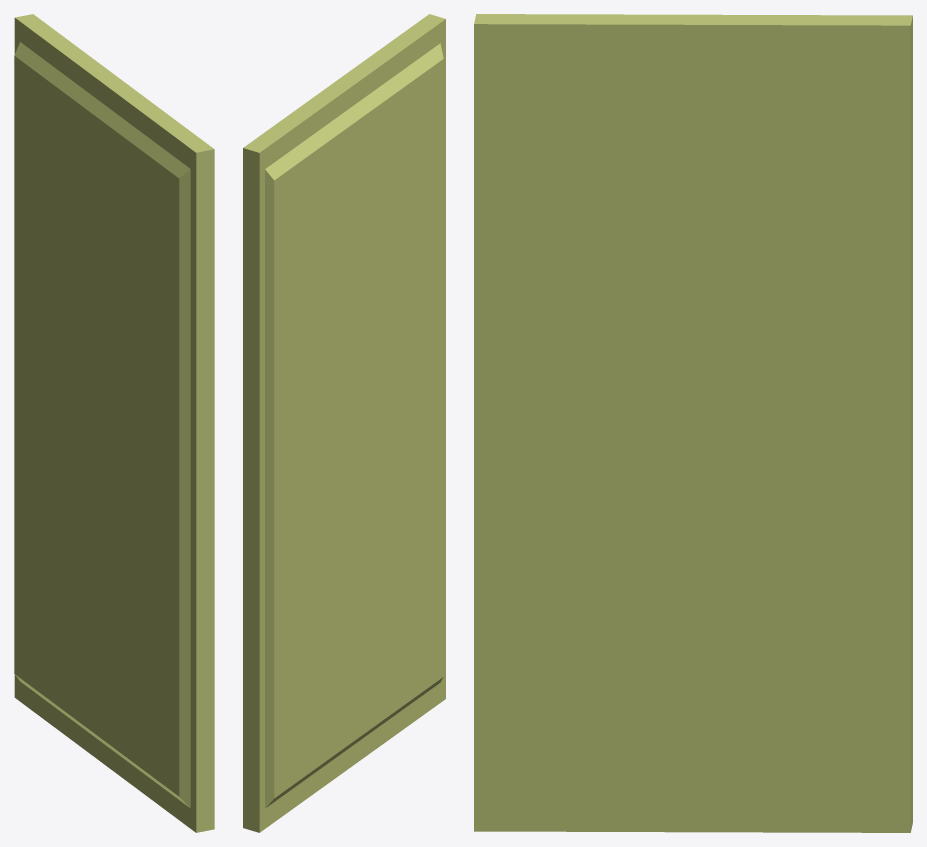
The model's file is Cupboard_01_Door_L_Lod0.fbx.
3 renders of one model, left to right at view 1: azimuth 30°, elevation 25°; view 2: azimuth 150°, elevation 25°; view 3: azimuth 270°, elevation 25°, orthographic. The views are drawn at different scales.
Parts seen in each view (by area): view 1: Cupboard_01_Door_L_Lod0; view 2: Cupboard_01_Door_L_Lod0; view 3: Cupboard_01_Door_L_Lod0.
Boxes of the visible parts, <box> form: Cupboard_01_Door_L_Lod0: <box>14,14,214,832</box>; Cupboard_01_Door_L_Lod0: <box>243,14,445,832</box>; Cupboard_01_Door_L_Lod0: <box>474,14,912,832</box>.
Size of the model in its own units: 5.85 by 139 by 68.42.
